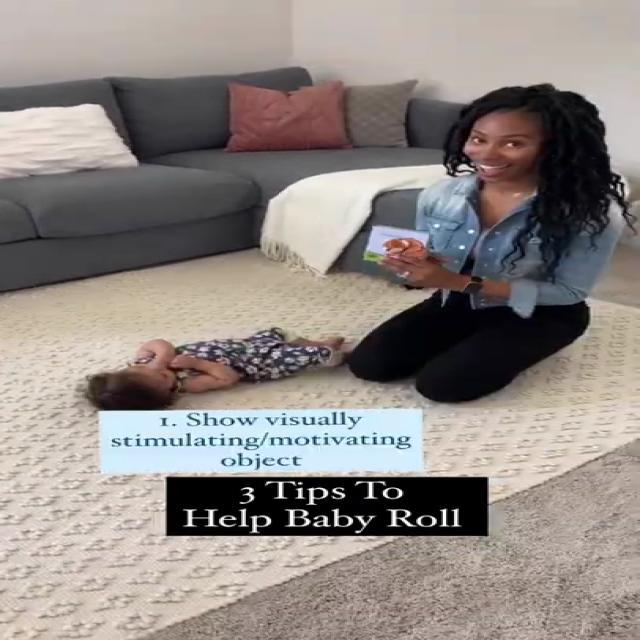baby: (86, 324, 356, 411)
